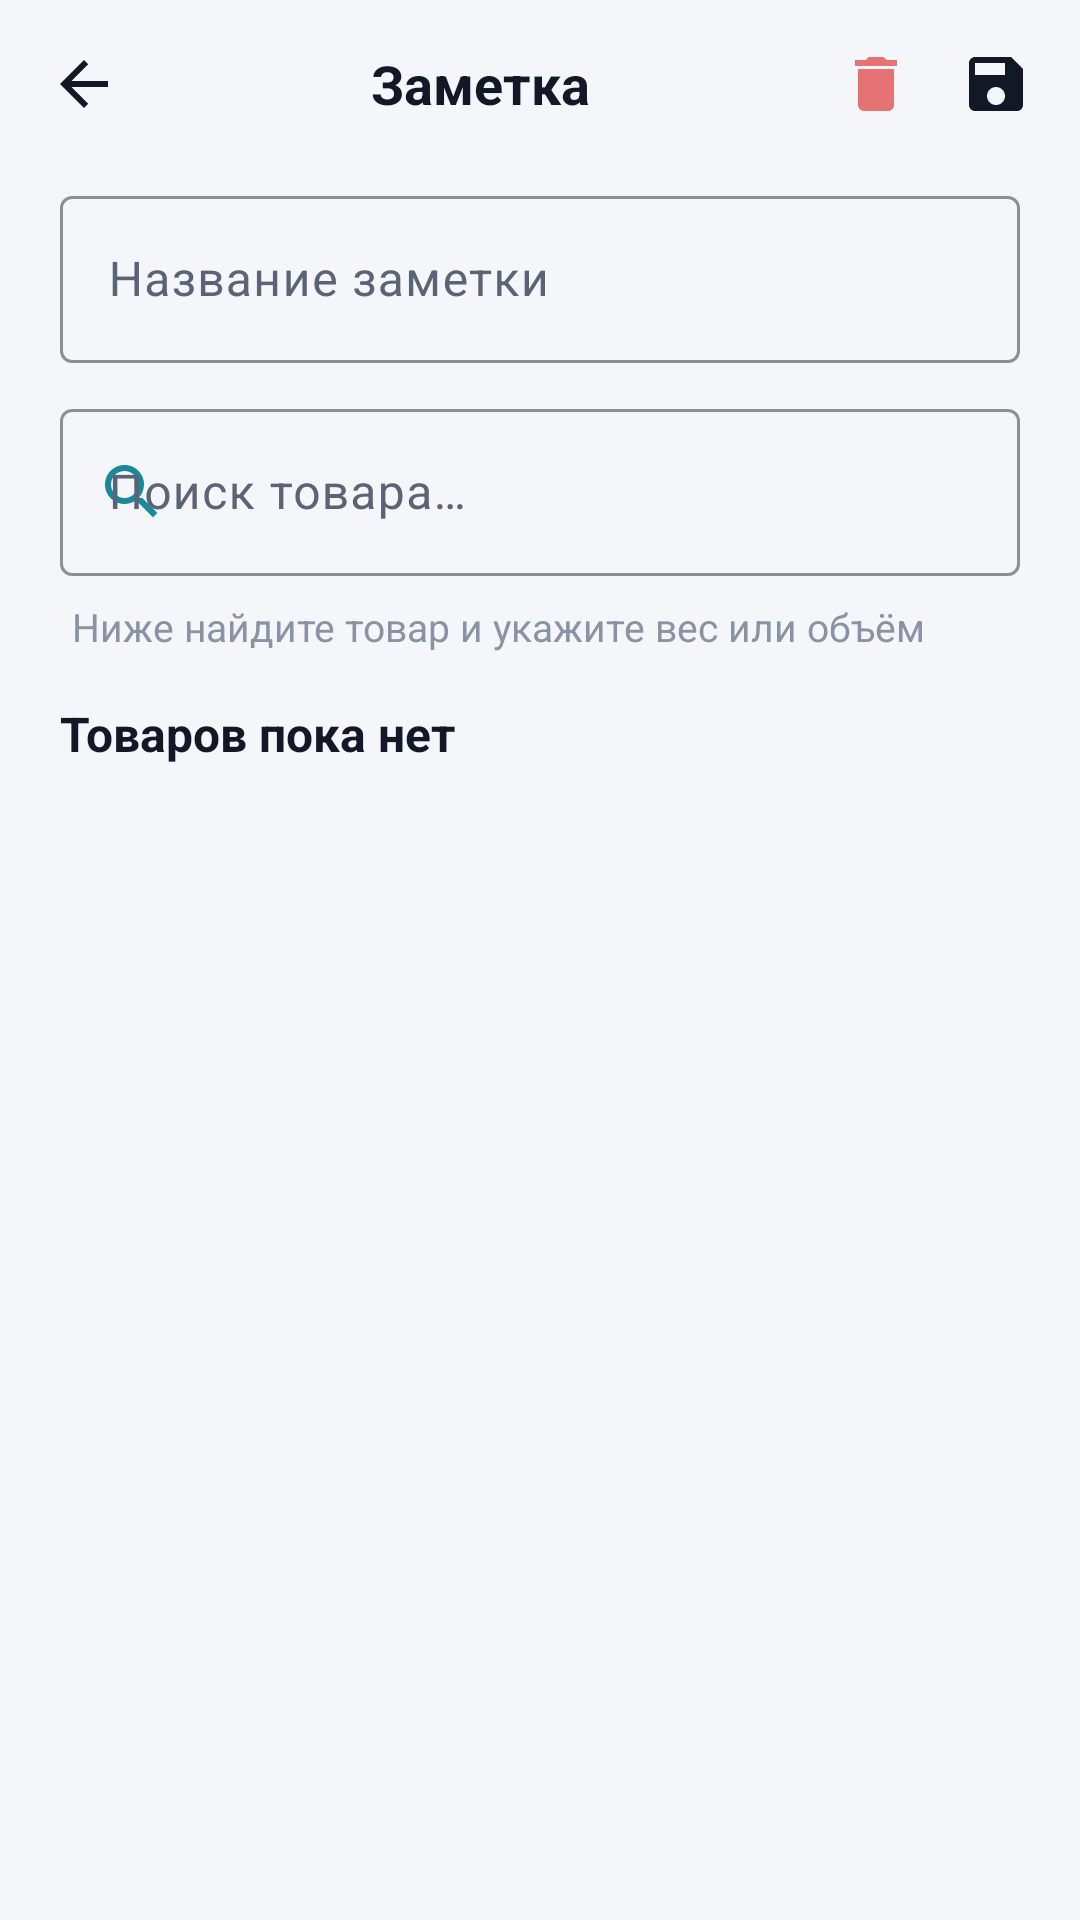

Screen size 1080x1920. Icon name, then its center in pixels as (x=x, y=y):
Назад: (x=84, y=84)
Сохранить: (x=996, y=84)
Удалить: (x=876, y=84)
